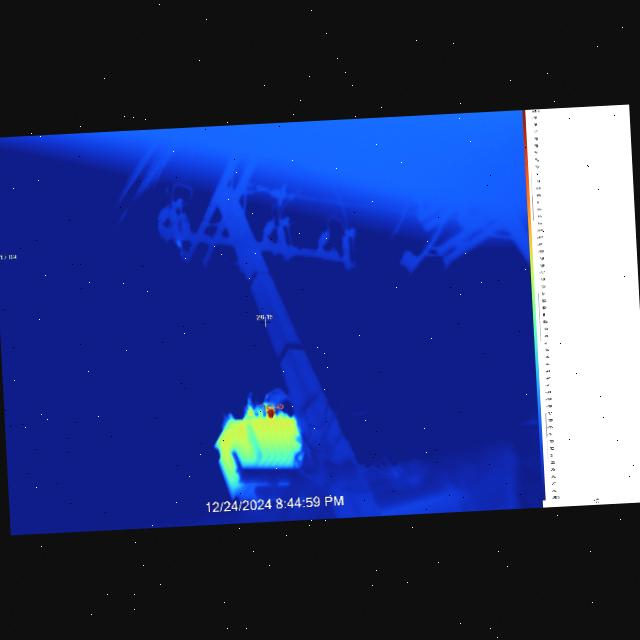loose_joint_red: (267, 409, 275, 419), (248, 408, 254, 417)
